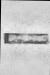N37: (4, 0, 46, 74)
